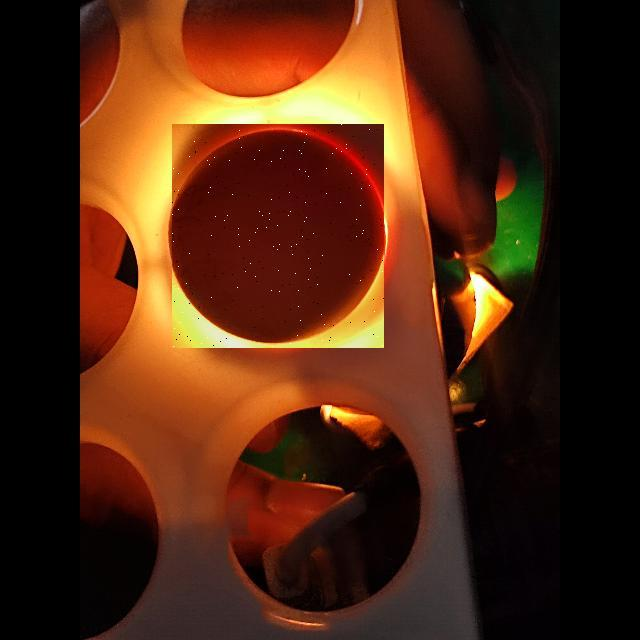Fertile: (172, 124, 384, 348)
